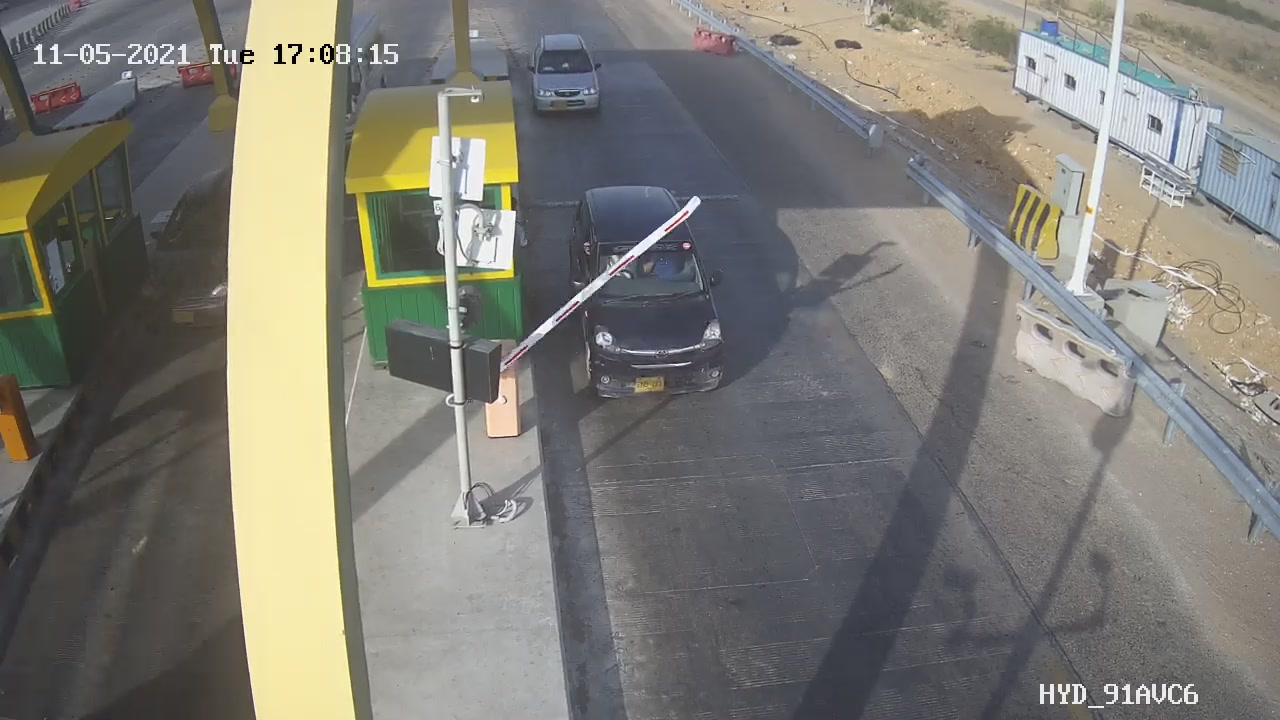F1: (548, 172, 756, 417), (511, 21, 624, 133)
